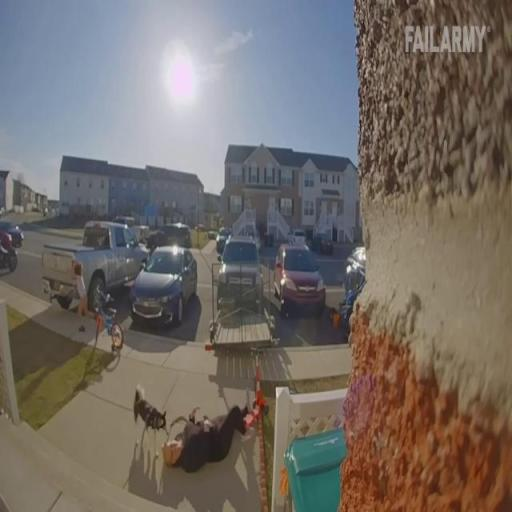Fall: (163, 391, 253, 472)
